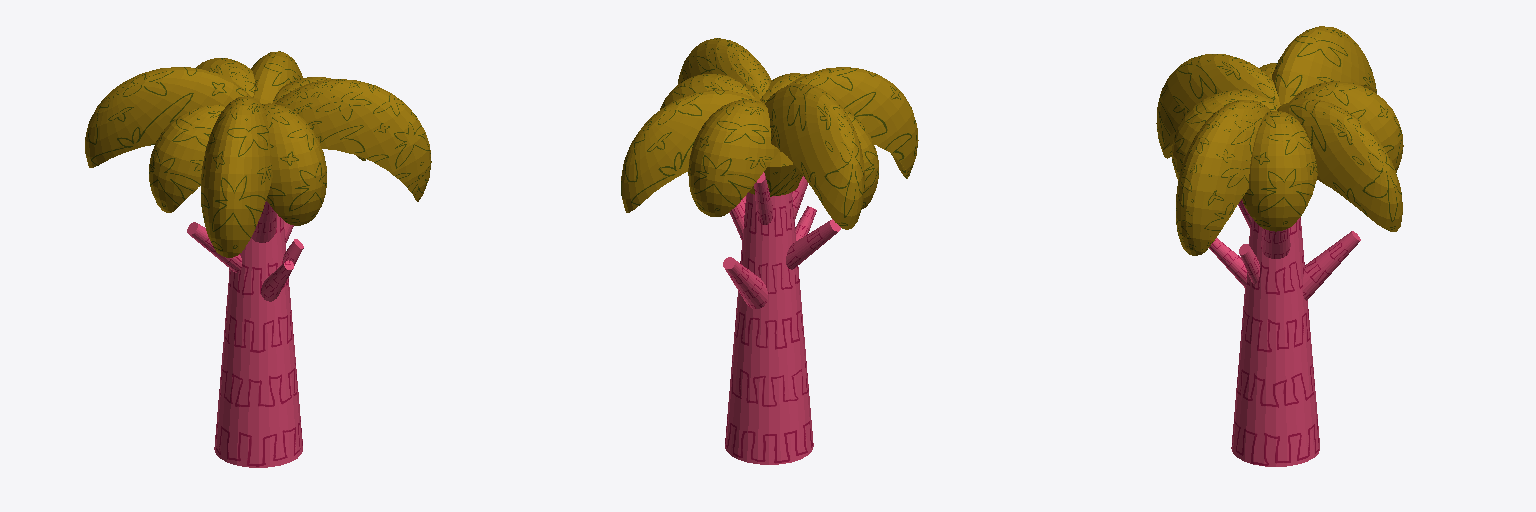
3 views of the same model, side by side, from view 1: azimuth 30°, elevation 25°; view 2: azimuth 150°, elevation 25°; view 3: azimuth 270°, elevation 25° (orthographic).
Parts seen in each view (by area): view 1: arbol01_002, arbol01_015, arbol01_017, arbol01_016, arbol01_013, arbol01_012, arbol01_018, arbol01_011, arbol01_009, arbol01_005, arbol01_003; view 2: arbol01_002, arbol01_016, arbol01_011, arbol01_018, arbol01_017, arbol01_015, arbol01_014, arbol01_004, arbol01_001, arbol01_012, arbol01_005, arbol01_007; view 3: arbol01_002, arbol01_015, arbol01_018, arbol01_014, arbol01_017, arbol01_016, arbol01_011, arbol01_013, arbol01_004, arbol01_006, arbol01_009.
Boxes of the visible parts, <box> form: arbol01_002: <box>214,214,302,467</box>; arbol01_015: <box>275,79,431,201</box>; arbol01_017: <box>201,96,272,257</box>; arbol01_016: <box>85,67,250,167</box>; arbol01_013: <box>262,103,326,225</box>; arbol01_012: <box>149,105,225,212</box>; arbol01_018: <box>251,51,302,103</box>; arbol01_011: <box>196,58,254,96</box>; arbol01_009: <box>261,260,293,301</box>; arbol01_005: <box>187,222,241,272</box>; arbol01_003: <box>251,201,276,242</box>; arbol01_002: <box>725,192,813,464</box>; arbol01_016: <box>765,83,864,229</box>; arbol01_011: <box>688,99,779,216</box>; arbol01_018: <box>621,90,763,212</box>; arbol01_017: <box>786,67,918,178</box>; arbol01_015: <box>678,38,771,100</box>; arbol01_014: <box>660,74,754,109</box>; arbol01_004: <box>723,257,767,308</box>; arbol01_001: <box>749,152,802,196</box>; arbol01_012: <box>780,108,878,208</box>; arbol01_005: <box>786,219,840,269</box>; arbol01_007: <box>754,172,772,224</box>; arbol01_002: <box>1231,217,1319,466</box>; arbol01_015: <box>1176,100,1270,255</box>; arbol01_018: <box>1277,99,1402,231</box>; arbol01_014: <box>1242,111,1317,231</box>; arbol01_017: <box>1156,54,1280,158</box>; arbol01_016: <box>1272,26,1376,105</box>; arbol01_011: <box>1290,81,1403,172</box>; arbol01_013: <box>1172,90,1278,180</box>; arbol01_004: <box>1303,231,1360,300</box>; arbol01_006: <box>1261,228,1290,258</box>; arbol01_009: <box>1209,238,1246,287</box>.
Bounding box in the file's own units: 114 × 160 × 93.17.
3 materials, 2 textured.